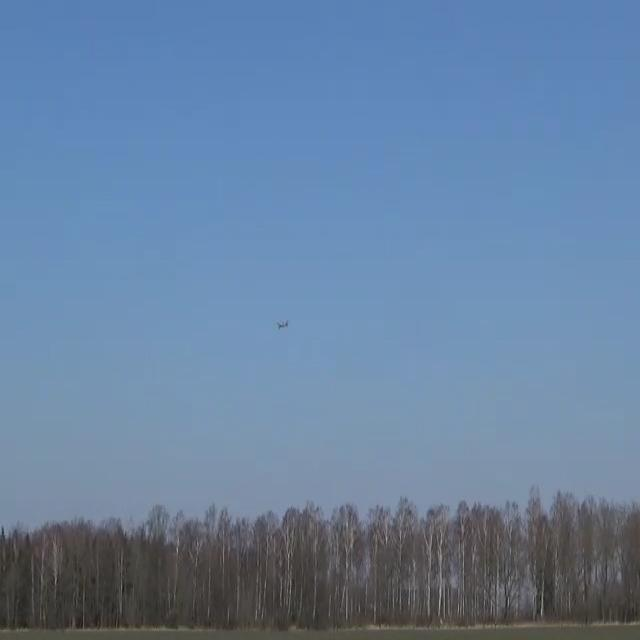drone: (276, 319, 288, 329)
